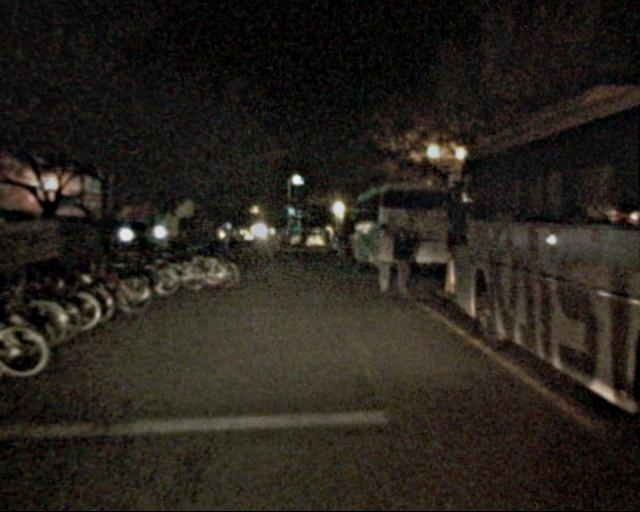person: (366, 224, 396, 298), (387, 221, 417, 295), (329, 225, 349, 273)
